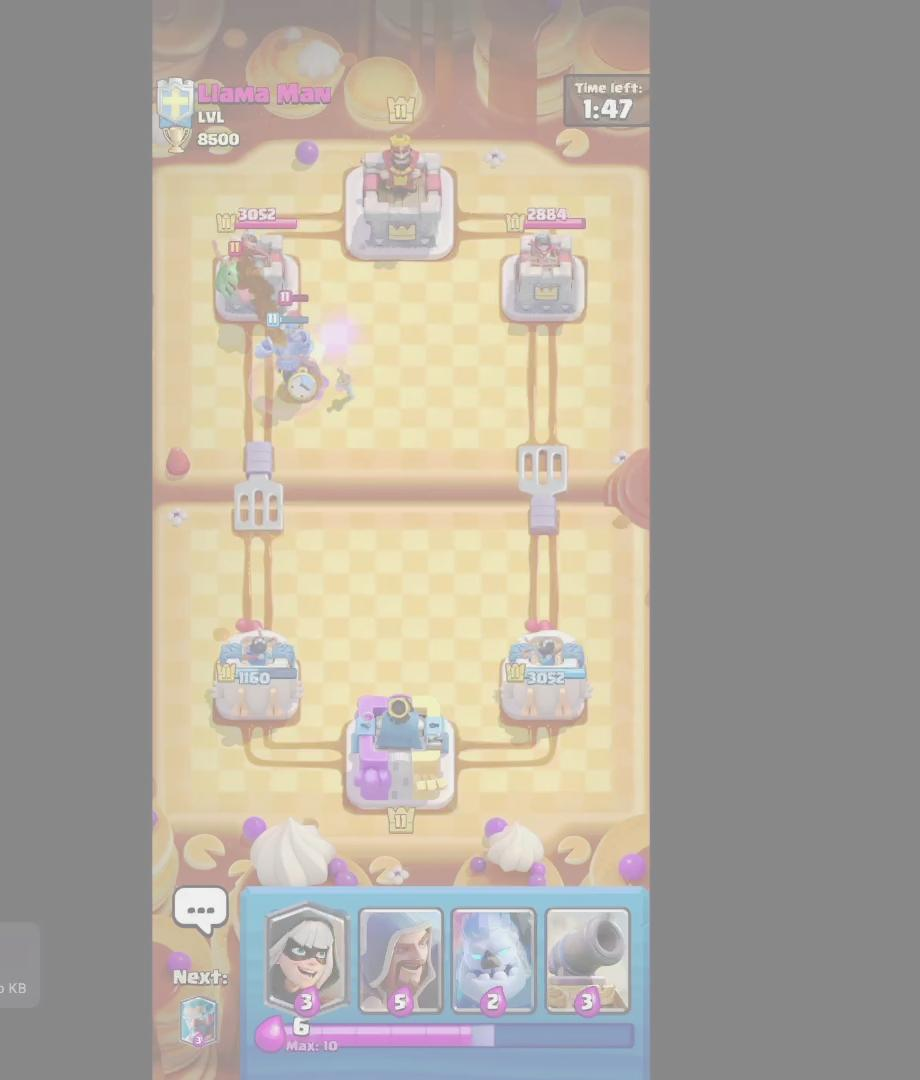Baby Dragon: (207, 237, 261, 305)
Bomber: (274, 288, 312, 340)
